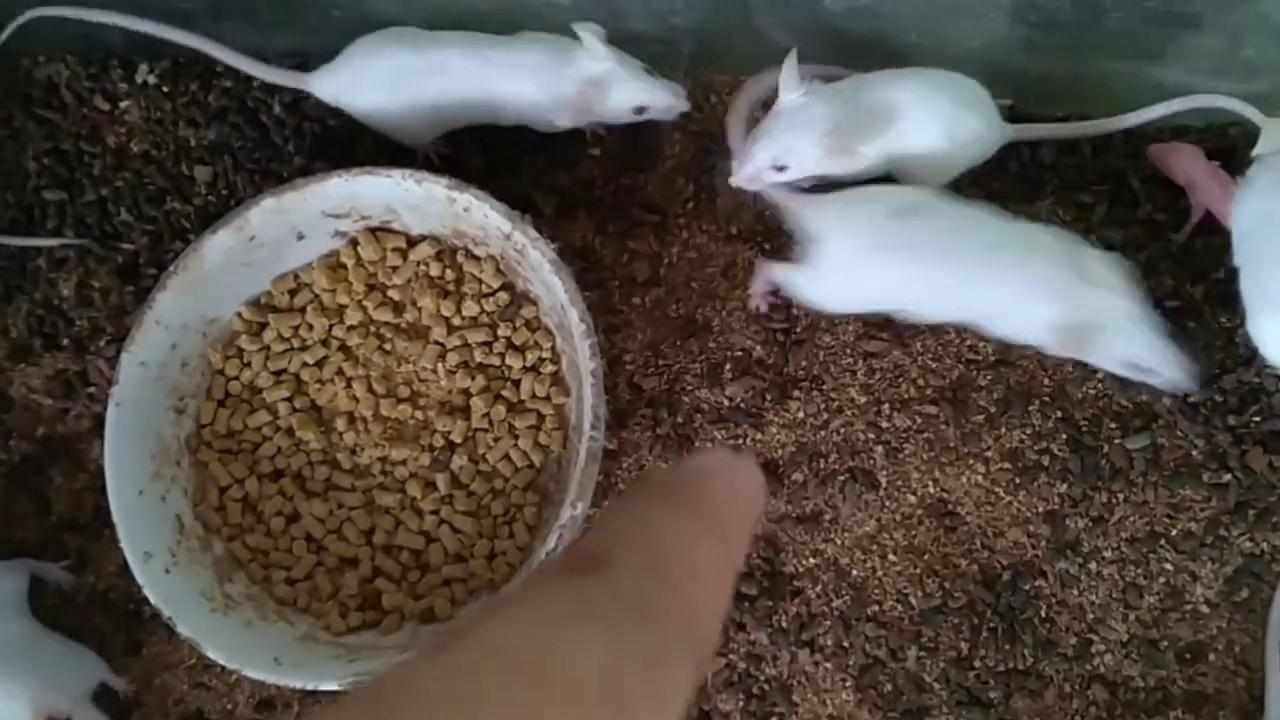rat: (749, 185, 1193, 398), (2, 6, 690, 143), (727, 47, 1279, 192)
